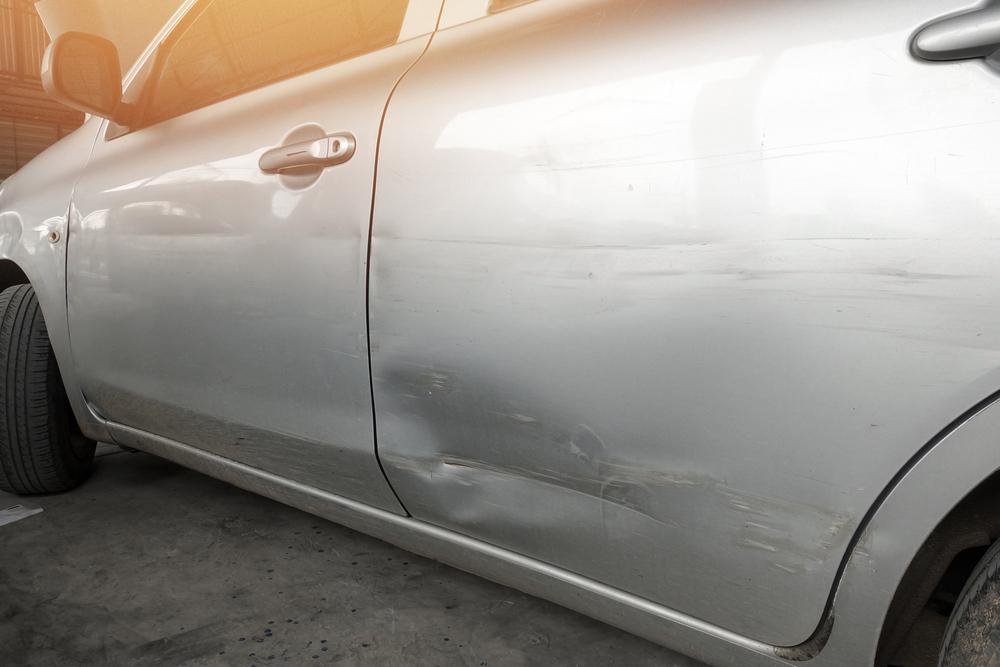dent: (376, 354, 623, 530)
scratch: (378, 226, 1000, 355), (605, 459, 857, 585)
